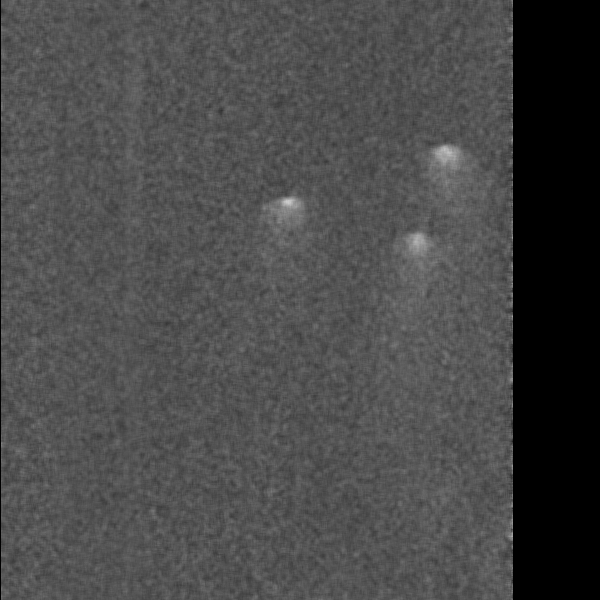spark: (394, 227, 440, 295), (427, 142, 465, 215), (271, 189, 302, 240)
